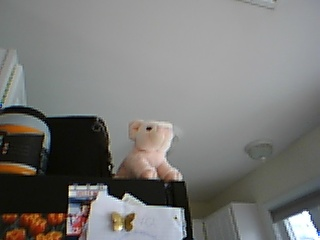piggy: (113, 119, 184, 182)
